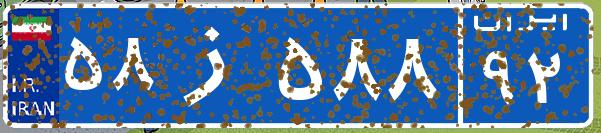2: (525, 38, 570, 115)
5: (273, 28, 330, 110), (57, 26, 110, 107)
8: (385, 28, 445, 110), (330, 28, 385, 110), (110, 28, 158, 105)
9: (475, 38, 525, 113)
ز: (158, 15, 273, 115)
